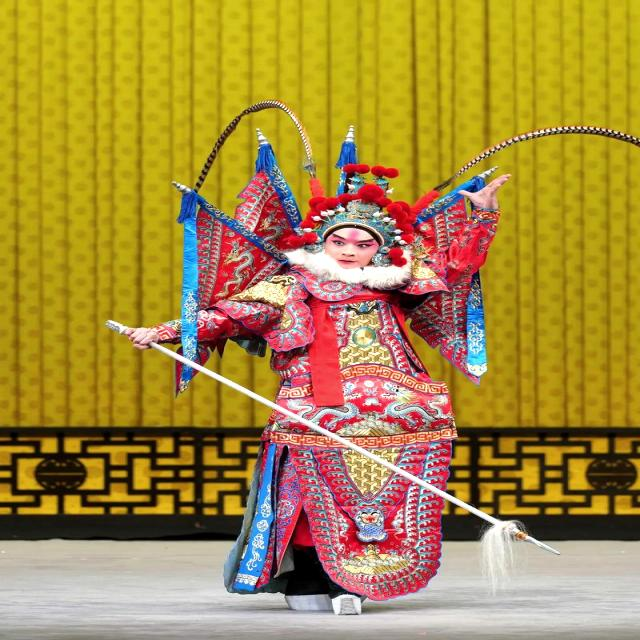Reeves-s Pheasant: (434, 125, 639, 189), (193, 100, 315, 191)
